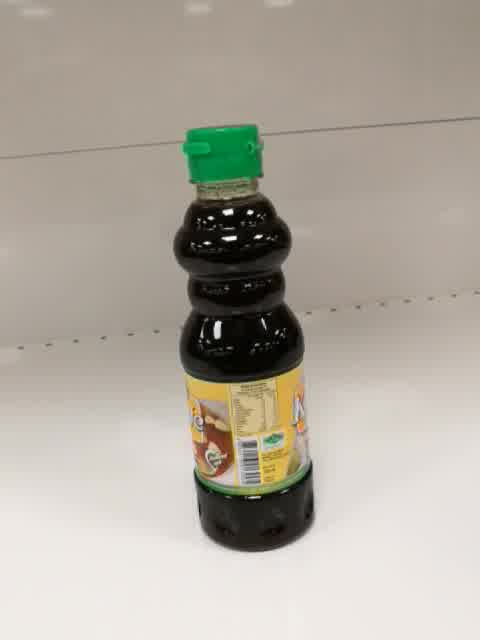cookingoil: (169, 124, 316, 555)
